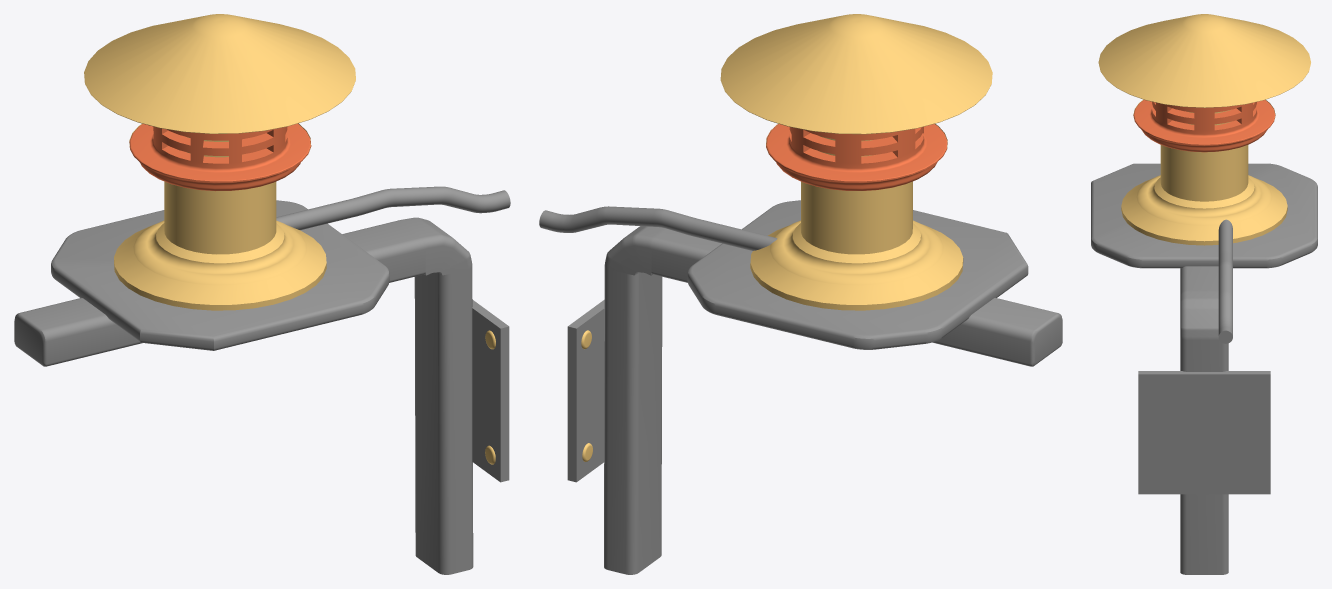
Rendered from Timbre Material.glb.
The picture shows the model from 3 angles, left to right: view 1: azimuth 30°, elevation 25°; view 2: azimuth 150°, elevation 25°; view 3: azimuth 270°, elevation 25°; orthographic projection. The views are drawn at different scales.
Parts seen in each view (by area): view 1: Timbre; view 2: Timbre; view 3: Timbre.
Part boxes in pixels (left/top/right/bottom): Timbre: left=14, top=14, right=510, bottom=574; Timbre: left=539, top=14, right=1062, bottom=574; Timbre: left=1091, top=14, right=1317, bottom=574.
Bounding box in the file's own units: 29.43 × 34.1 × 15.1.
